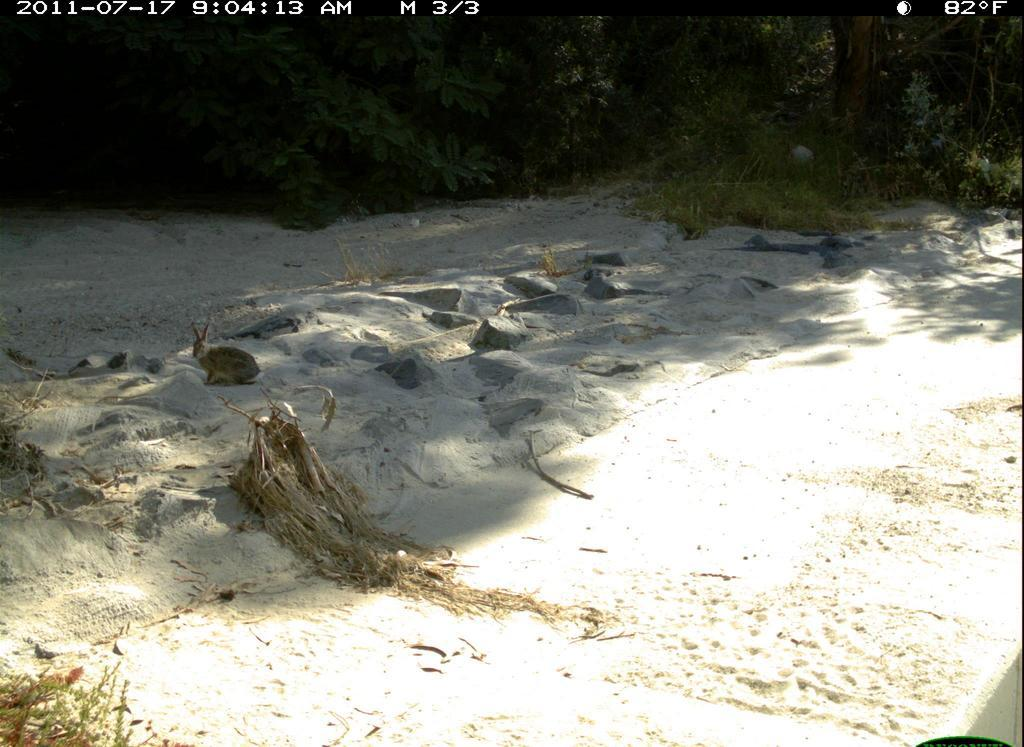rabbit: (190, 317, 269, 392)
